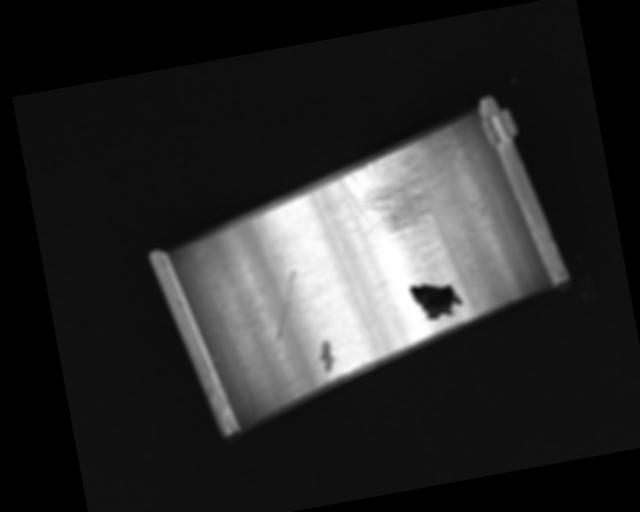blot: (408, 276, 466, 325)
bruise: (315, 338, 338, 375)
nick: (332, 239, 376, 362), (261, 267, 309, 346)
scratch: (331, 127, 469, 253)
